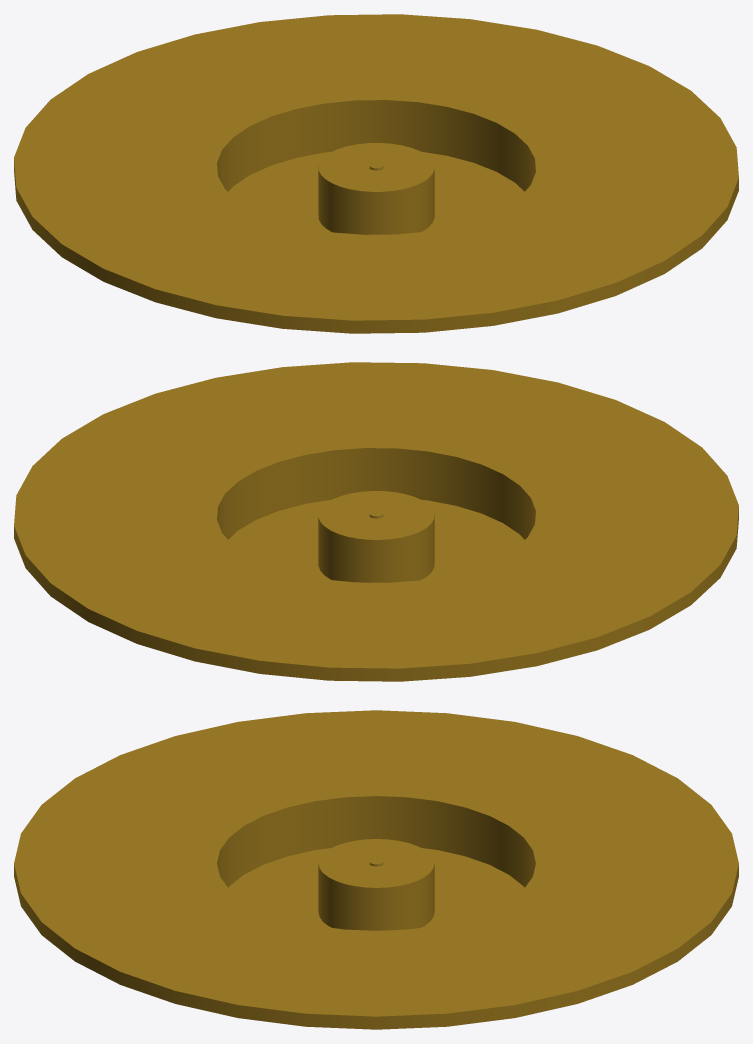
Rendered from mapa.fbx.
3 views of the same model, one above another, from view 1: azimuth 30°, elevation 25°; view 2: azimuth 150°, elevation 25°; view 3: azimuth 270°, elevation 25° (orthographic).
Visible parts, largest first — view 1: Circle; view 2: Circle; view 3: Circle.
Part boxes in pixels (box(x1,y1,x2,y2)): Circle: box(14, 14, 738, 333); Circle: box(14, 362, 738, 681); Circle: box(14, 710, 738, 1029).
Size of the model in its own units: 133897 by 10329 by 133897.
